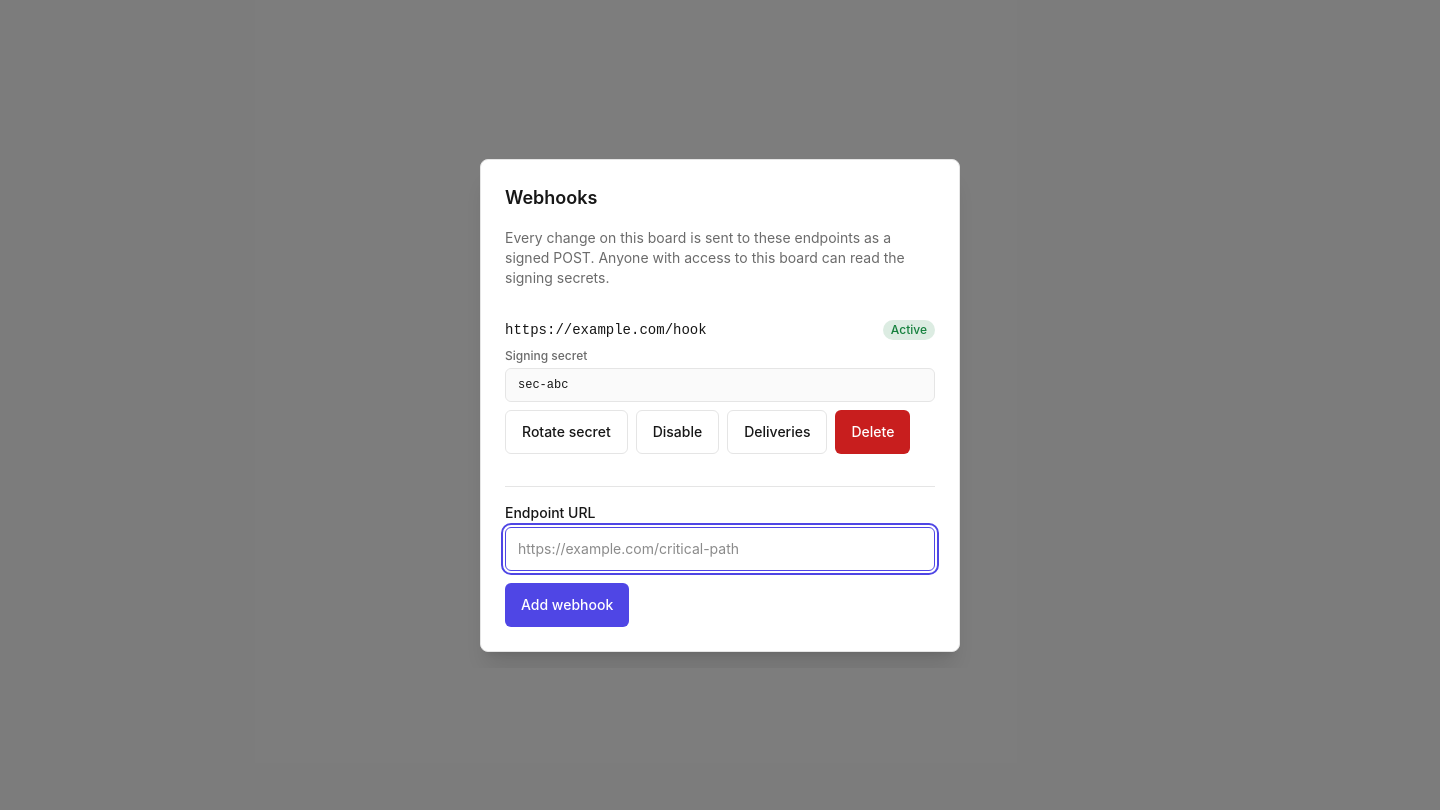
Test case: WebhooksModal › disables an active endpoint and enables it again from the same button
Expected: the text "https://example.com/hook" is shown, [505, 322, 707, 338]
Click the button with aria-label "Disable https://example.com/hook". click: [677, 432]
box: [636, 410, 719, 454]
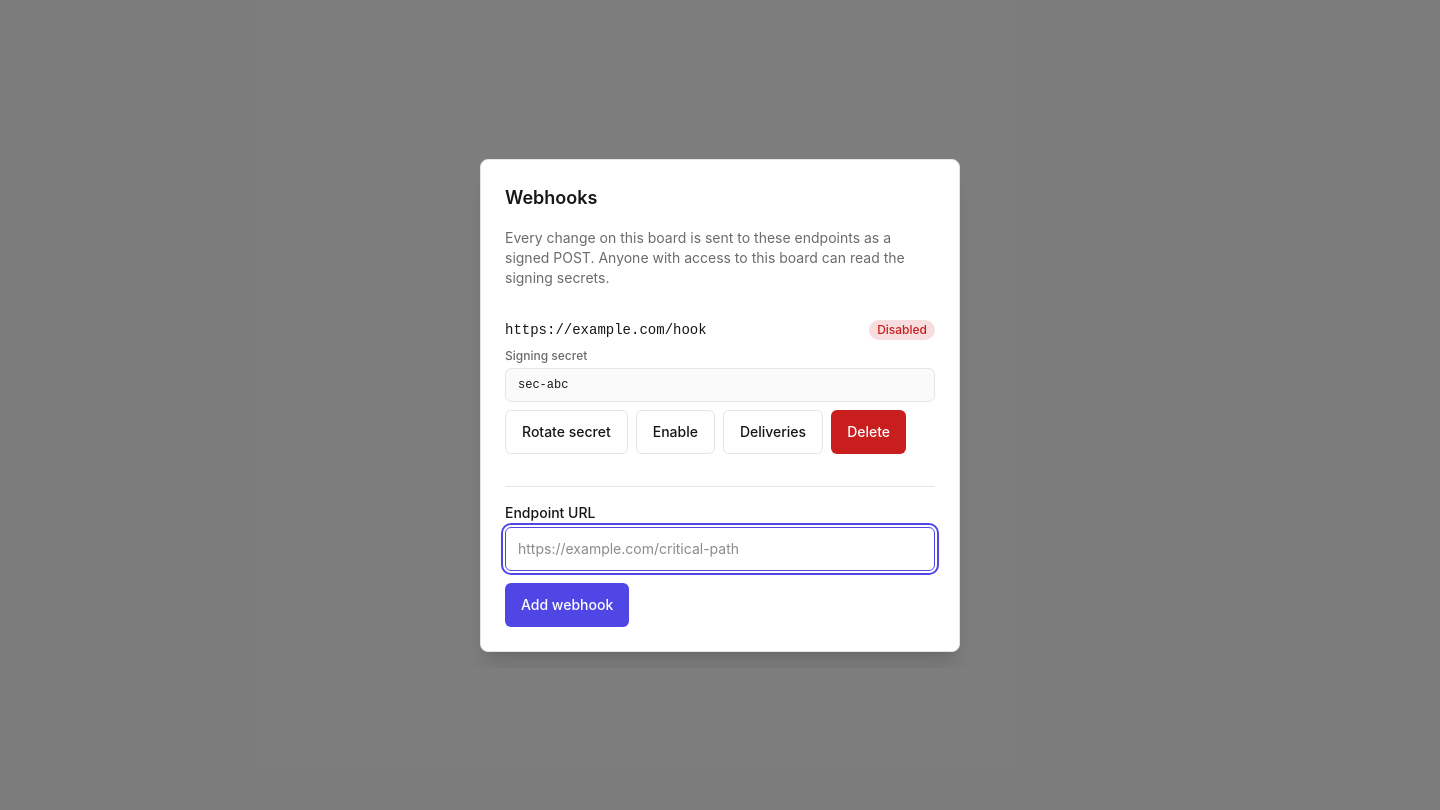
Expected: the button with aria-label "Enable https://example.com/hook" is shown
Expected: the text "Disabled" is shown, [869, 320, 935, 340]
Click the button with aria-label "Enable https://example.com/hook". click: [675, 432]
box: [636, 410, 715, 454]
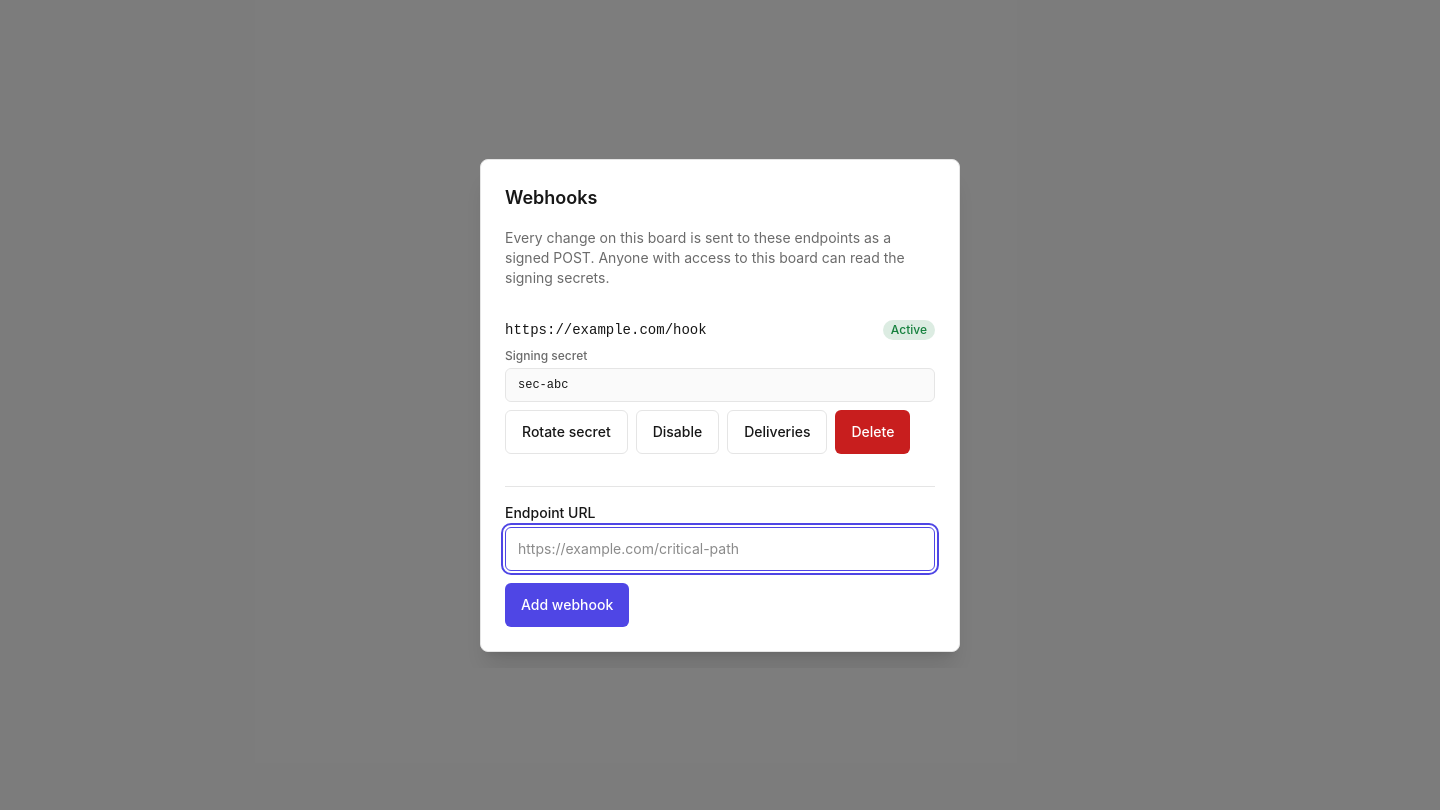
Expected: the button with aria-label "Disable https://example.com/hook" is shown, [636, 410, 719, 454]
Expected: the text "Active" is shown, [883, 320, 935, 340]
